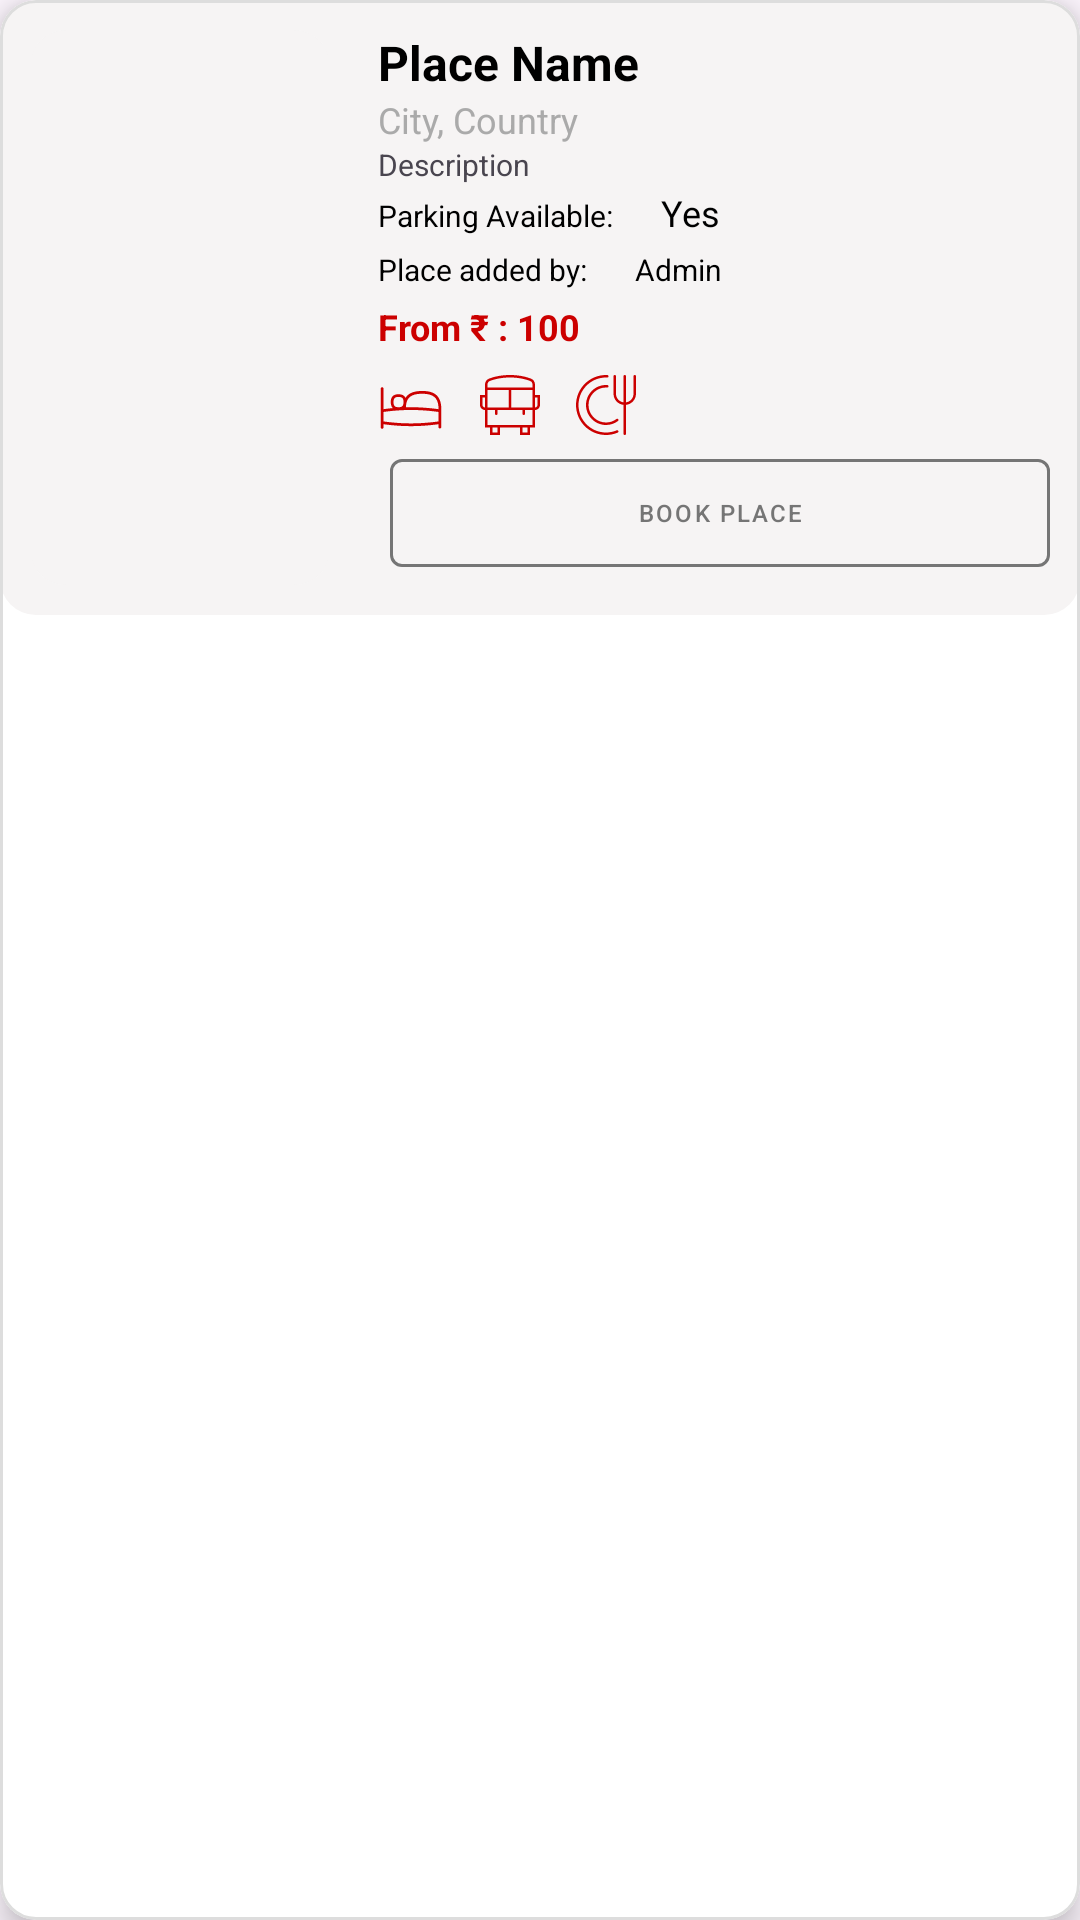

Point at icon controls on the screen. Image size 1080px x 1920px, points as (x,y).
Bus Icon: (510,405)
Hotel Icon: (411,408)
Restaurant Icon: (606,405)
